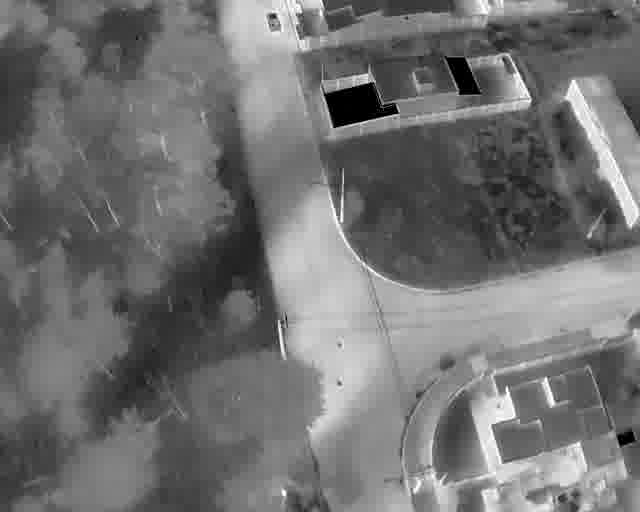car: (266, 10, 281, 32)
